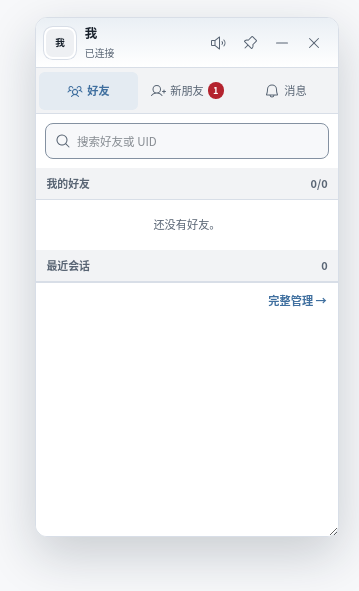
Test case: shows only incoming pending requests in the new-friends badge and list
Click the button named "新朋友1" at (187, 91), box [138, 72, 236, 110]
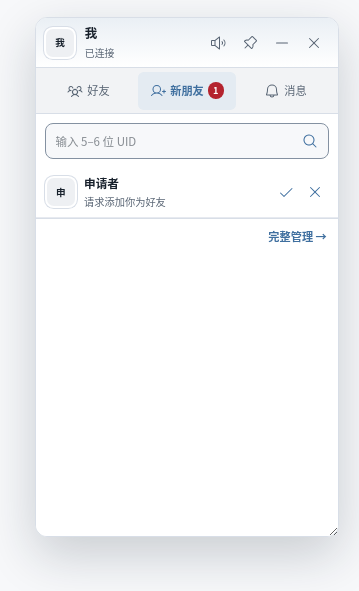
Result: the text "申请者" is shown at [84, 174, 119, 191]
